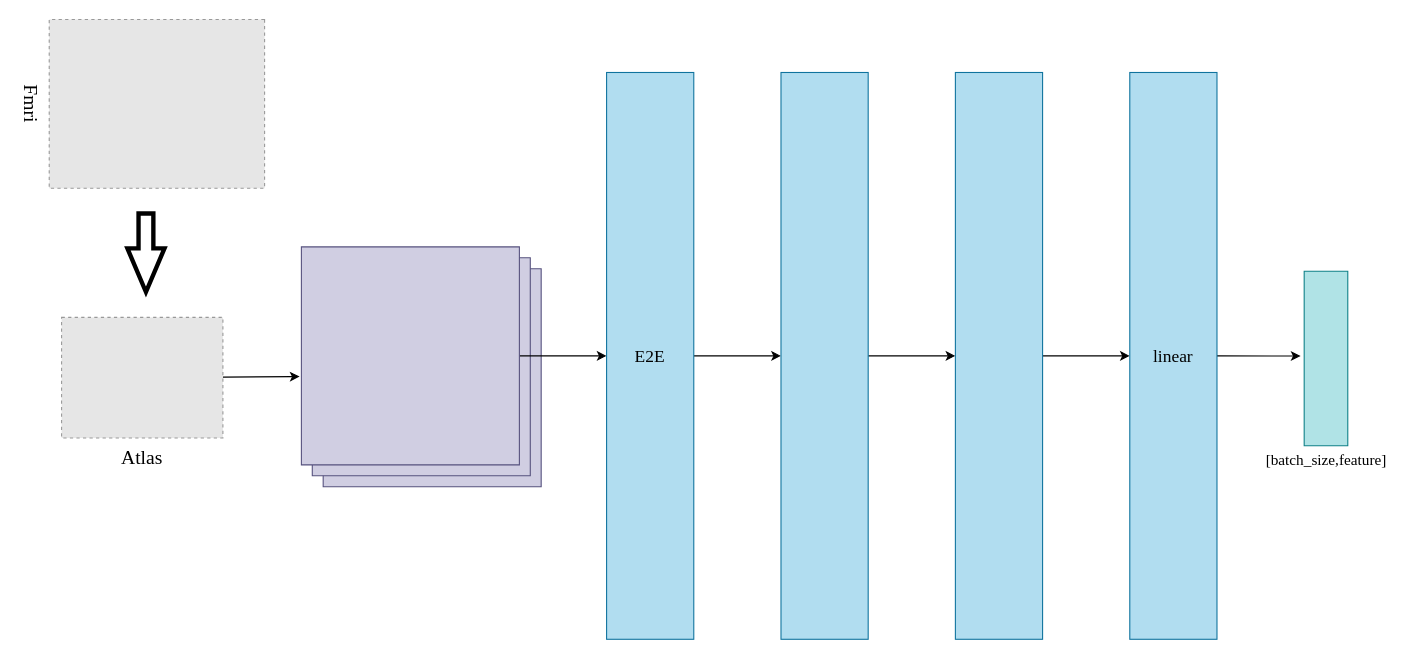
This 1405x658 diagram has some shape labels left out. Grey dashed boxes stand in for pictures. Each missing label, with the centre of its shape:
cc200脑图谱(200*200): point 409,355
E2G: point 998,355
E2N: point 824,355
